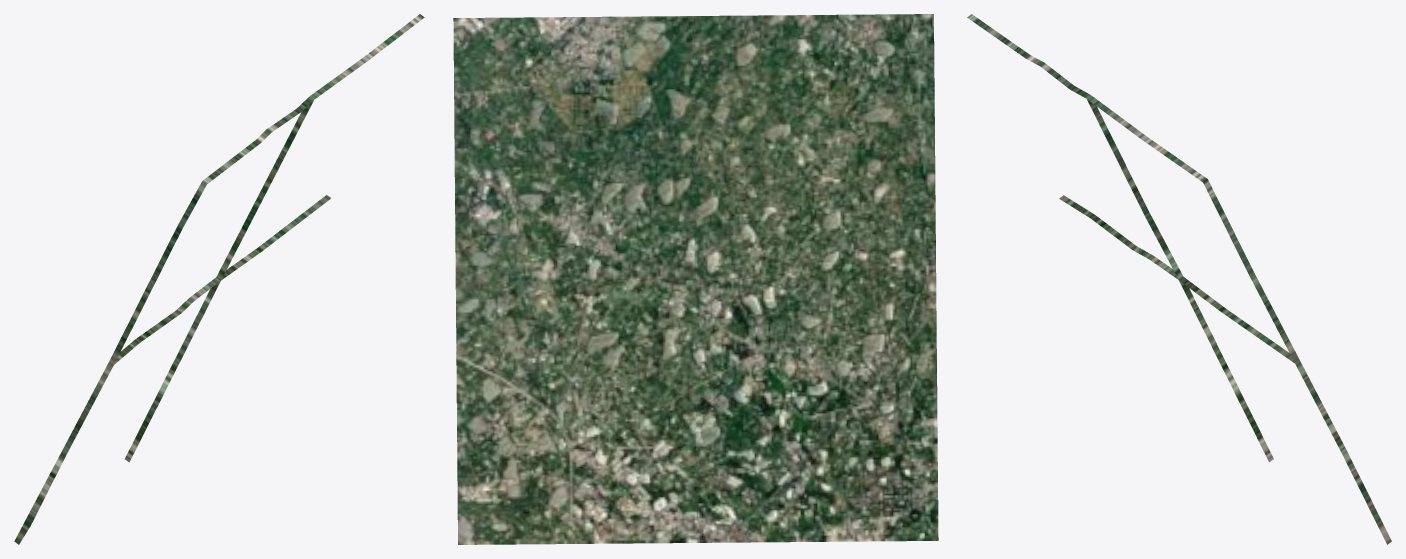
The picture shows the model from 3 angles, left to right: view 1: azimuth 30°, elevation 25°; view 2: azimuth 150°, elevation 25°; view 3: azimuth 270°, elevation 25°; orthographic projection. The views are drawn at different scales.
Size of the model in its own units: 9865 by 8883 by 8292.
Materials: 1 (1 with a texture image).
